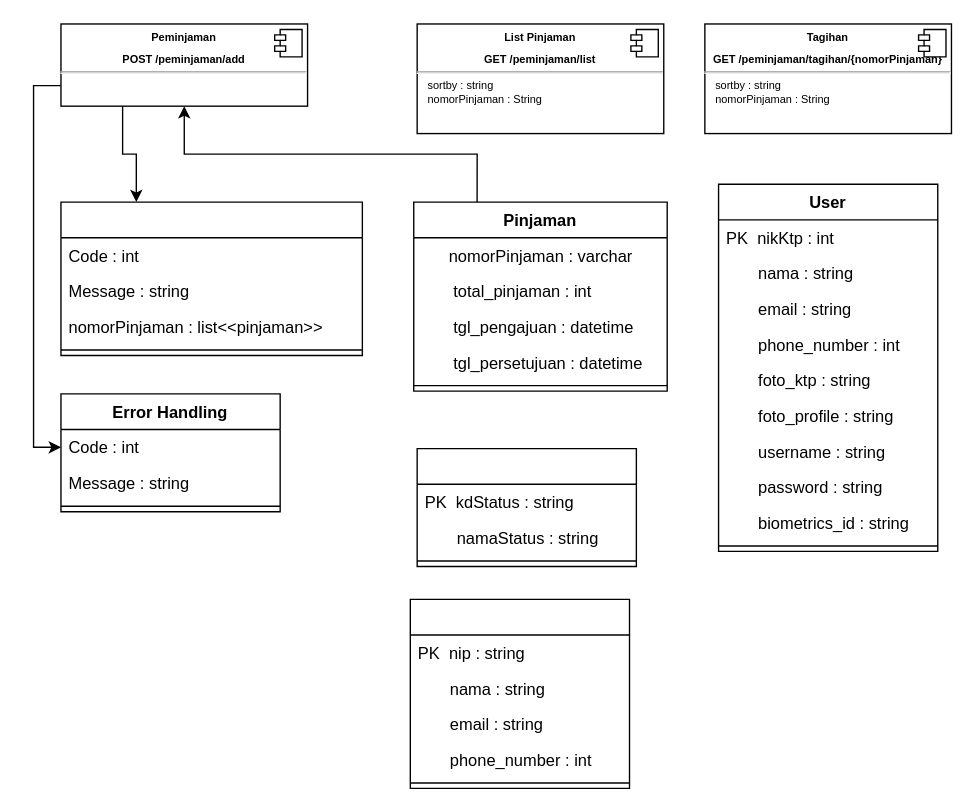
This 975x812 diagram has some shape labels left out. Each missing label, with the box of its shape:
Created: (60, 201, 362, 356)
StatusPinjaman: (416, 447, 636, 566)
Verifikator: (409, 598, 630, 788)
